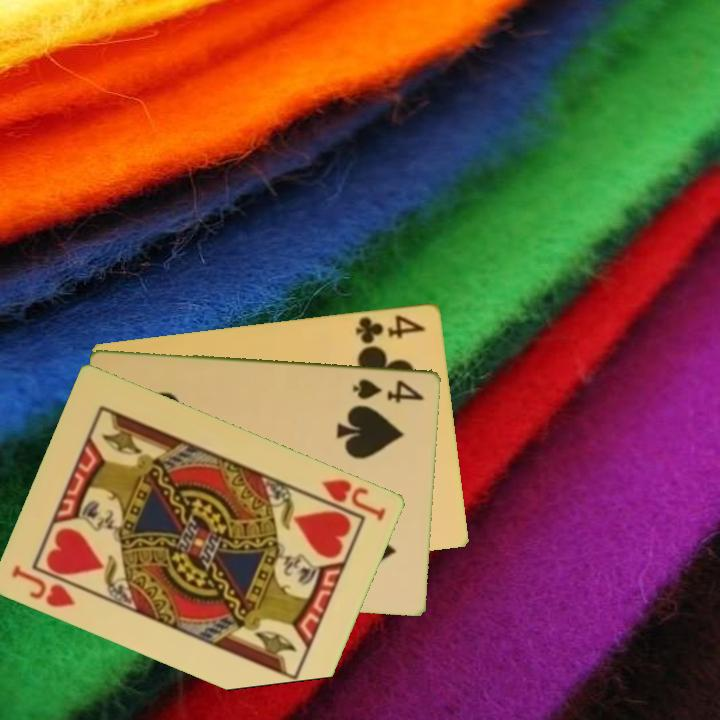4c: (352, 310, 428, 347)
4s: (349, 375, 428, 405)
Jh: (8, 561, 79, 611), (318, 475, 390, 524)
